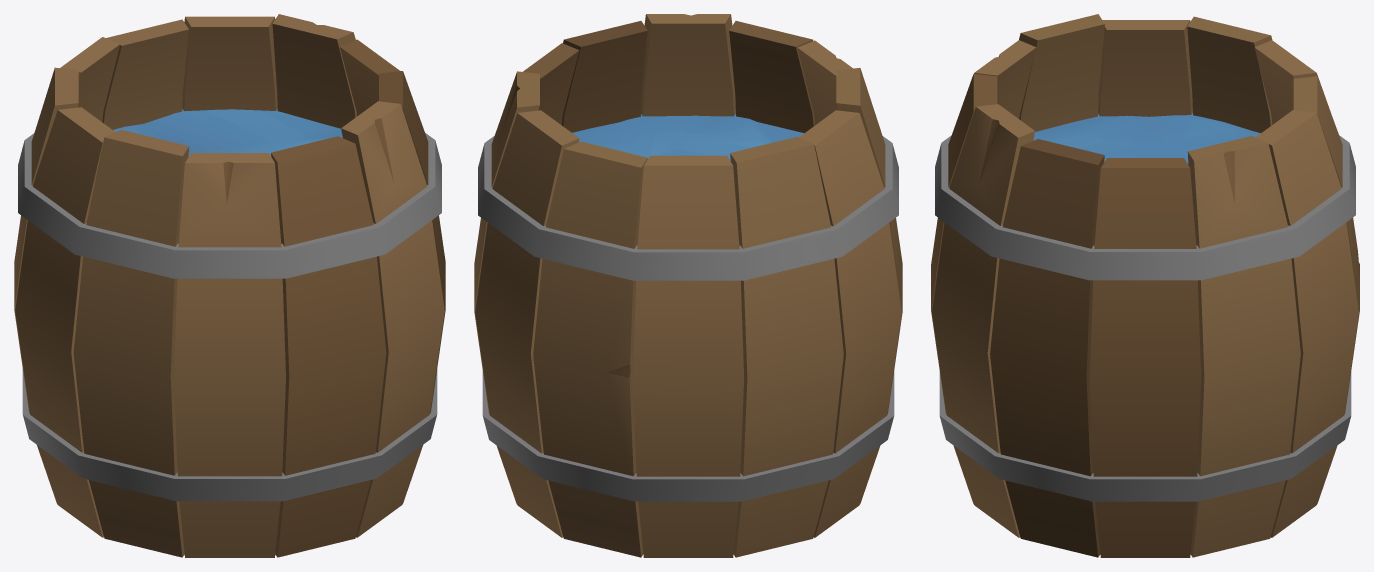
File: SM_Prop_Barrel_04.obj
The picture shows the model from 3 angles, left to right: view 1: azimuth 30°, elevation 25°; view 2: azimuth 150°, elevation 25°; view 3: azimuth 270°, elevation 25°; orthographic projection.
Parts seen in each view (by area): view 1: SM_Prop_Barrel_04_Mat_SwatchOverlay_Farm_01_WoodRotated_Inst, SM_Prop_Barrel_04_Mat_SwatchOverlay_Farm_01_Inst; view 2: SM_Prop_Barrel_04_Mat_SwatchOverlay_Farm_01_WoodRotated_Inst, SM_Prop_Barrel_04_Mat_SwatchOverlay_Farm_01_Inst; view 3: SM_Prop_Barrel_04_Mat_SwatchOverlay_Farm_01_WoodRotated_Inst, SM_Prop_Barrel_04_Mat_SwatchOverlay_Farm_01_Inst.
Part boxes in pixels (x1,y1,x2,y2): SM_Prop_Barrel_04_Mat_SwatchOverlay_Farm_01_WoodRotated_Inst: (14, 14, 445, 557); SM_Prop_Barrel_04_Mat_SwatchOverlay_Farm_01_Inst: (18, 133, 441, 501); SM_Prop_Barrel_04_Mat_SwatchOverlay_Farm_01_WoodRotated_Inst: (474, 14, 902, 557); SM_Prop_Barrel_04_Mat_SwatchOverlay_Farm_01_Inst: (478, 136, 898, 501); SM_Prop_Barrel_04_Mat_SwatchOverlay_Farm_01_WoodRotated_Inst: (931, 14, 1359, 557); SM_Prop_Barrel_04_Mat_SwatchOverlay_Farm_01_Inst: (935, 135, 1355, 501).
Size of the model in its own units: 0.7488 by 0.7693 by 0.7488.
2 materials, 2 textured.
